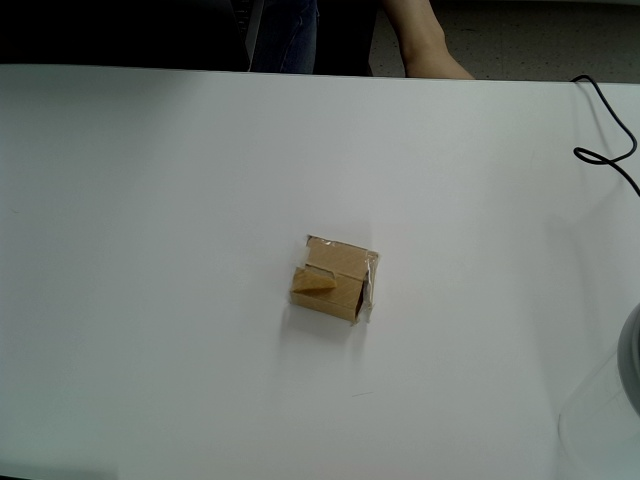defect: (286, 235, 385, 329)
